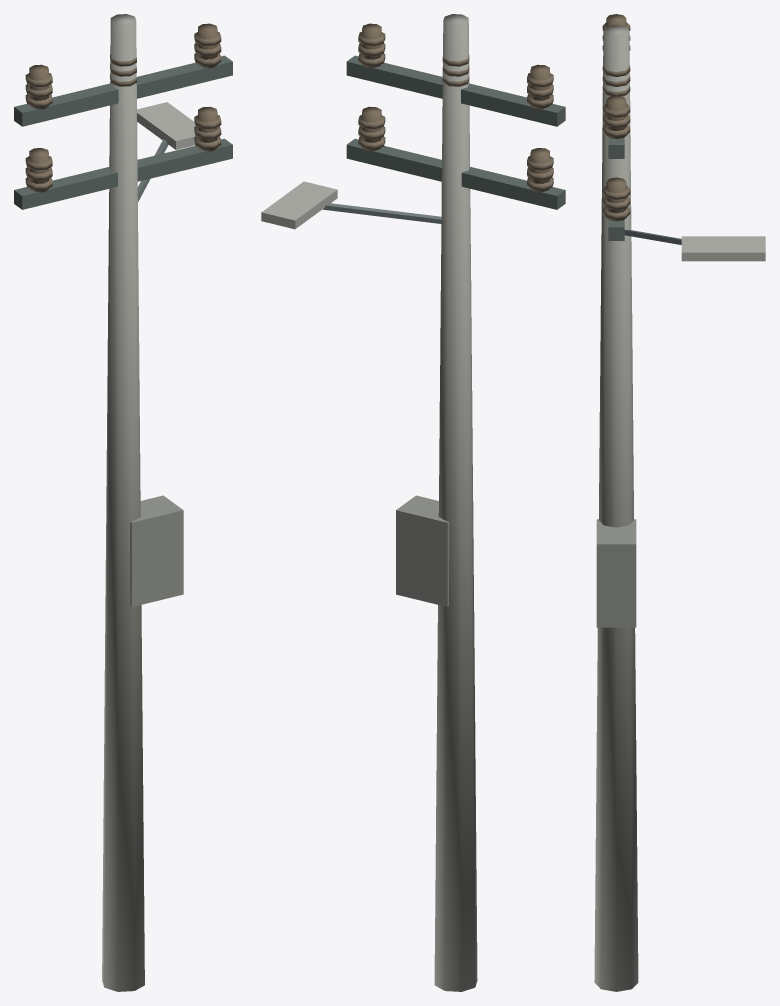
Rendered from utility_pole.glb.
3 views of the same model, side by side, from view 1: azimuth 30°, elevation 25°; view 2: azimuth 150°, elevation 25°; view 3: azimuth 270°, elevation 25° (orthographic).
Parts seen in each view (by area): view 1: utility_pole; view 2: utility_pole; view 3: utility_pole.
Part boxes in pixels (left/top/right/bottom): utility_pole: left=14, top=14, right=232, bottom=991; utility_pole: left=261, top=14, right=565, bottom=991; utility_pole: left=594, top=14, right=765, bottom=991.
Size of the model in its own units: 1.87 by 7.65 by 1.25.
